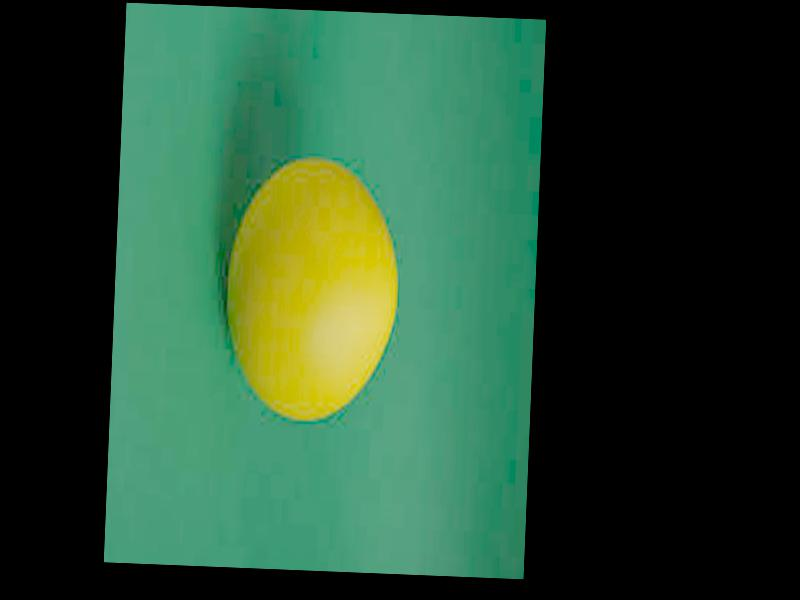Eggs: (220, 163, 403, 427)
